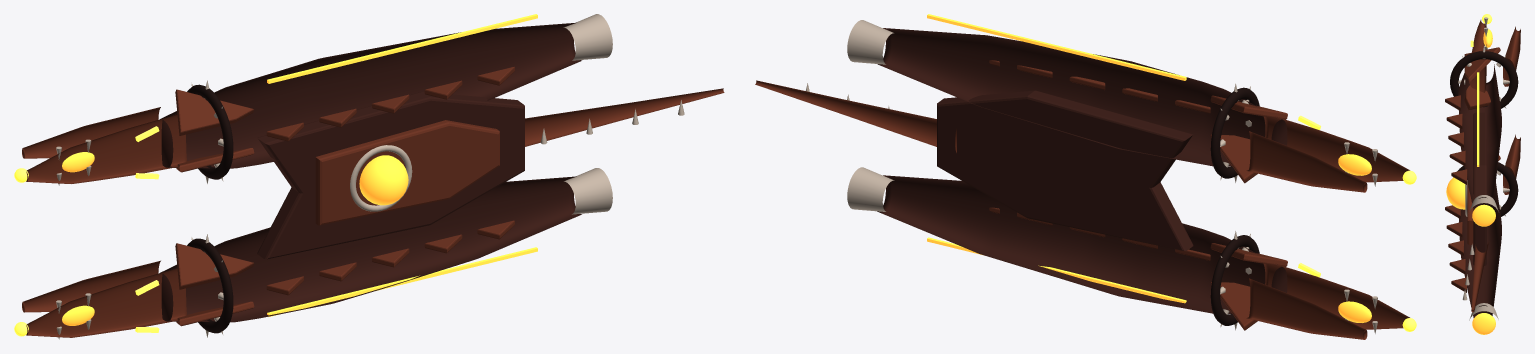
The model's file is orthros.glb.
3 views of the same model, side by side, from view 1: azimuth 30°, elevation 25°; view 2: azimuth 150°, elevation 25°; view 3: azimuth 270°, elevation 25° (orthographic). The views are drawn at different scales.
Visible parts, largest first — view 1: hull_L, hull_R, bridge, bridge_plate, jaw_upper_R, jaw_upper_L, tail, jaw_lower_L, jaw_lower_R, core, ear_L_a, ear_R_a (+9 smaller); view 2: bridge, hull_R, hull_L, jaw_lower_L, jaw_lower_R, jaw_upper_L, jaw_upper_R, tail, engine_L_bell, engine_R_bell, stripe_L, collar_L (+8 smaller); view 3: hull_L, hull_R, bridge, collar_L, collar_R, jaw_upper_L, tail, core, jaw_lower_L, jaw_lower_R, engine_L_glow, engine_R_glow (+19 smaller).
Part boxes in pixels (x1,y1,x2,y2): hull_L: (160, 22, 581, 168); hull_R: (160, 176, 581, 322); bridge: (257, 92, 524, 259); bridge_plate: (315, 120, 499, 225); jaw_upper_R: (26, 268, 187, 337); jaw_upper_L: (26, 114, 187, 183); tail: (525, 88, 724, 146); jaw_lower_L: (22, 107, 160, 158); jaw_lower_R: (22, 260, 160, 312); core: (359, 155, 408, 205); ear_L_a: (175, 89, 254, 135); ear_R_a: (175, 243, 254, 289); bridge: (937, 90, 1193, 250); hull_R: (877, 175, 1287, 313); hull_L: (877, 28, 1287, 166); jaw_lower_L: (1246, 131, 1367, 192); jaw_lower_R: (1246, 278, 1367, 339); jaw_upper_L: (1263, 116, 1409, 182); jaw_upper_R: (1263, 263, 1409, 329); tail: (755, 80, 956, 152); engine_L_bell: (847, 20, 893, 64); engine_R_bell: (847, 167, 894, 211); stripe_L: (927, 14, 1186, 80); collar_L: (1210, 87, 1259, 178); hull_L: (1458, 64, 1501, 209); hull_R: (1459, 182, 1501, 317); bridge: (1473, 112, 1486, 265); collar_L: (1450, 51, 1518, 108); collar_R: (1457, 162, 1518, 216); jaw_upper_L: (1468, 20, 1486, 92); tail: (1471, 241, 1489, 312); core: (1446, 177, 1465, 209); jaw_lower_L: (1503, 26, 1520, 86); jaw_lower_R: (1503, 134, 1520, 194); engine_L_glow: (1472, 204, 1495, 226); engine_R_glow: (1472, 313, 1495, 334).
Size of the model in its own units: 571 by 202 by 76.4.
